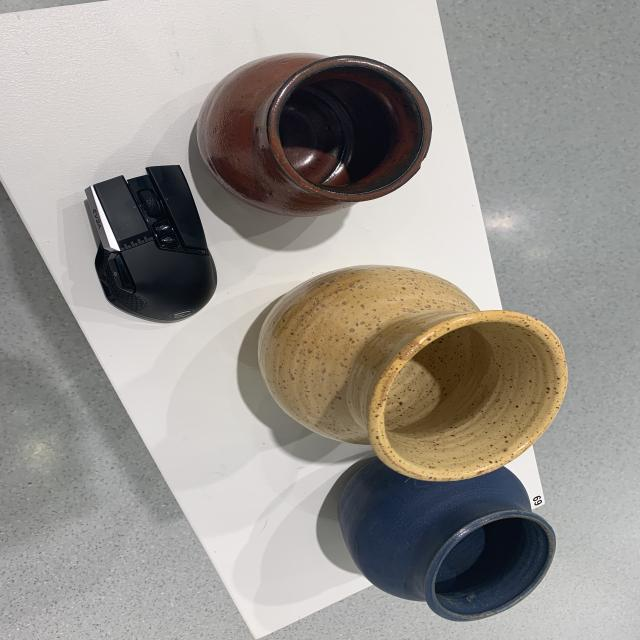Mouse: (69, 160, 219, 327)
